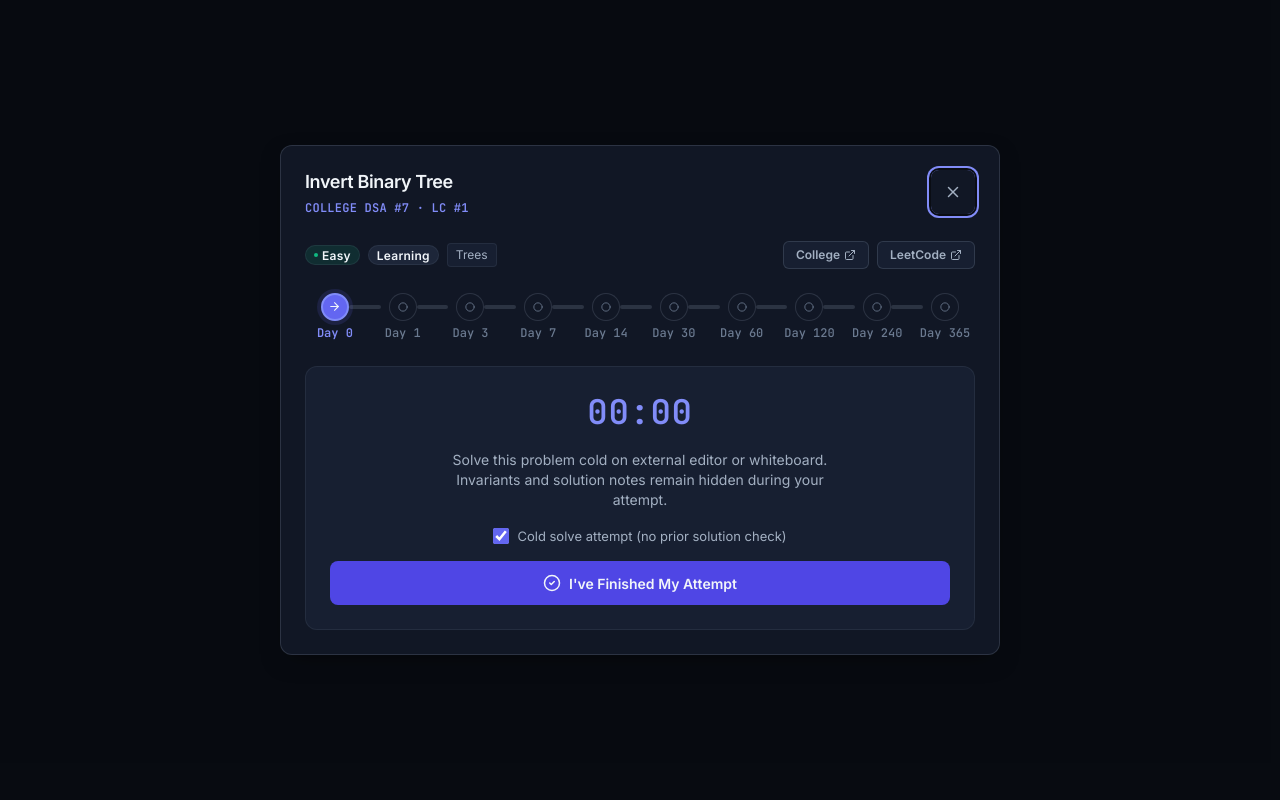
Test: RecallSessionModal component › toggles notes visibility when clicking Reveal/Hide Solution Notes
This screenshot has width=1280, height=800.
Click the button "I've Finished My Attempt".
click(640, 583)  # box [330, 561, 950, 605]
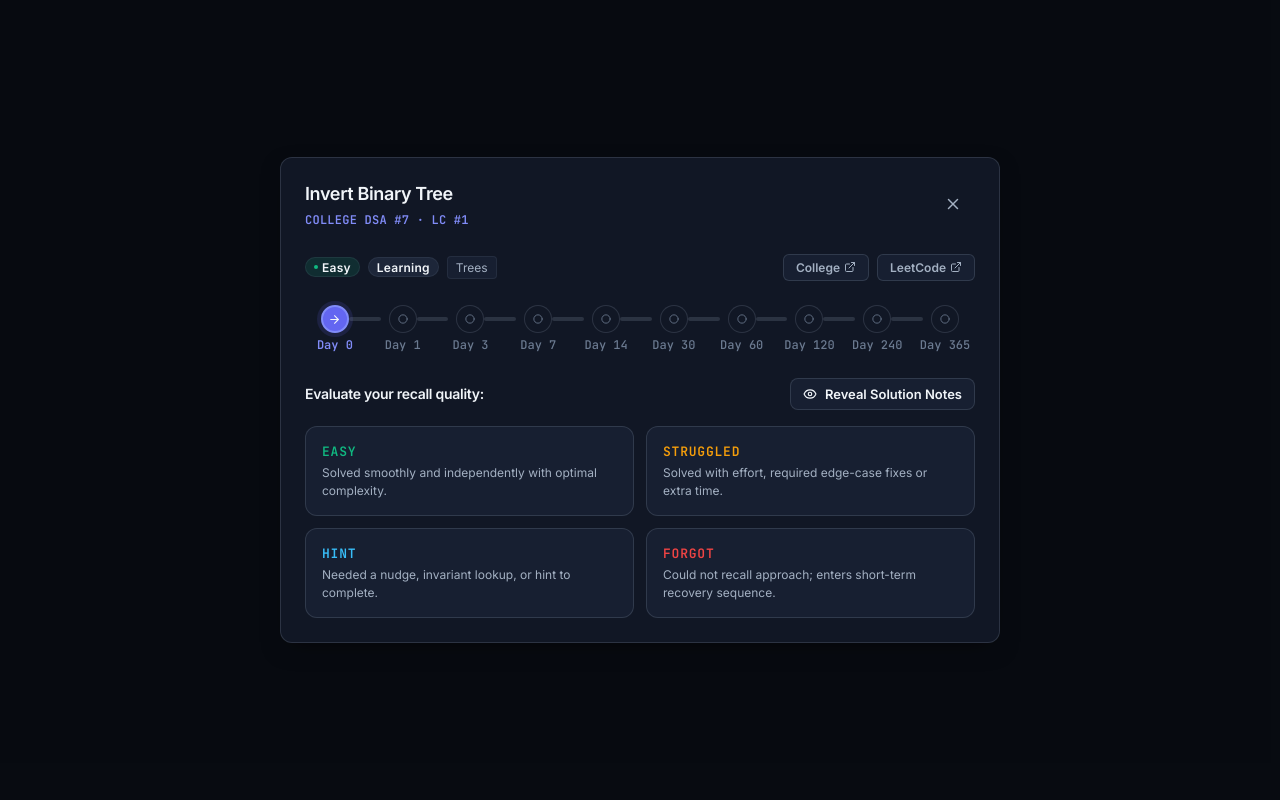
Check: the text "Recursively swap left and right subtrees." is not shown
# Reveal notes
Click the button "Reveal Solution Notes".
click(882, 394)  # box [790, 378, 975, 410]
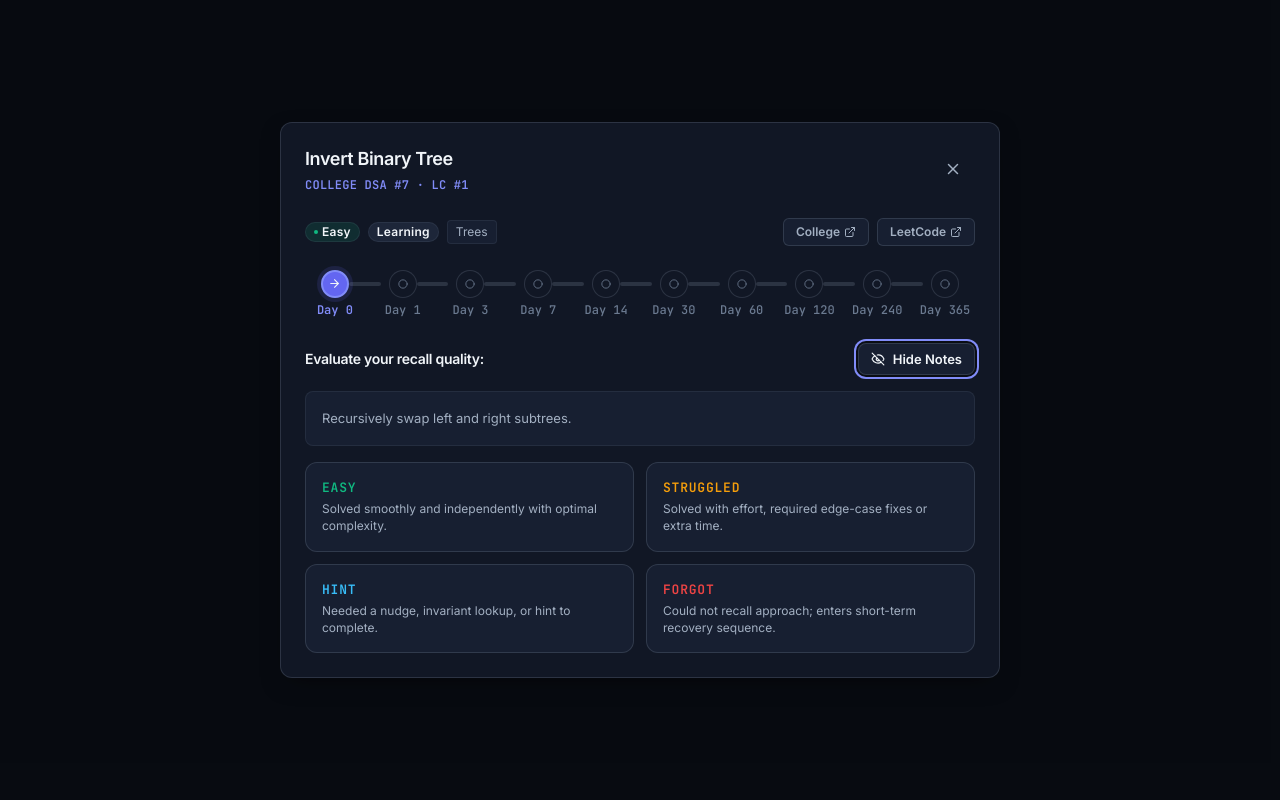
Check: the text "Recursively swap left and right subtrees." is shown, box [305, 391, 975, 446]
# Hide notes
Click the button "Hide Notes".
click(916, 359)  # box [858, 343, 975, 375]
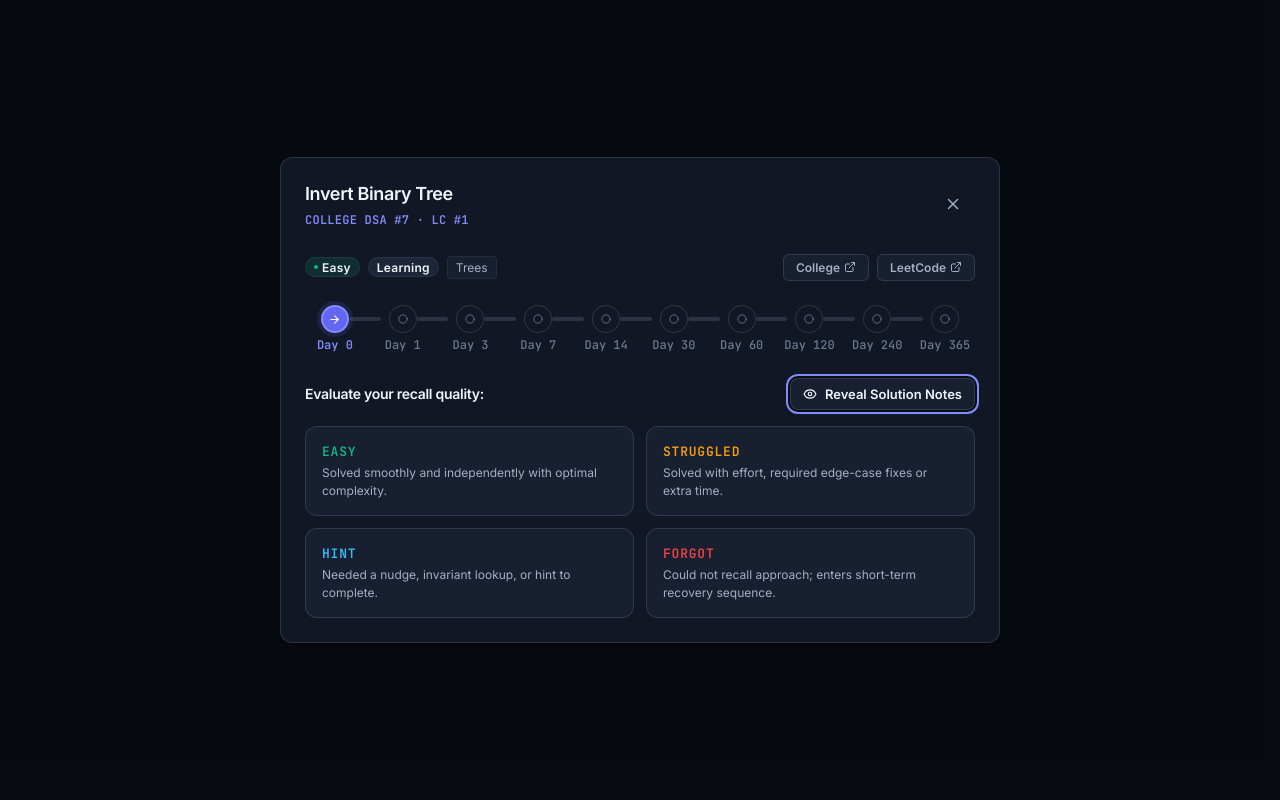
Check: the text "Recursively swap left and right subtrees." is gone
